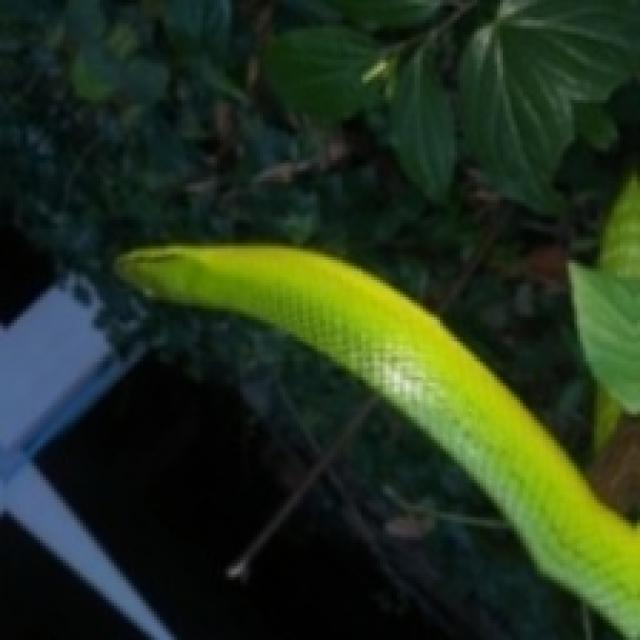red-tailed green ratsnake: (117, 246, 637, 637)
